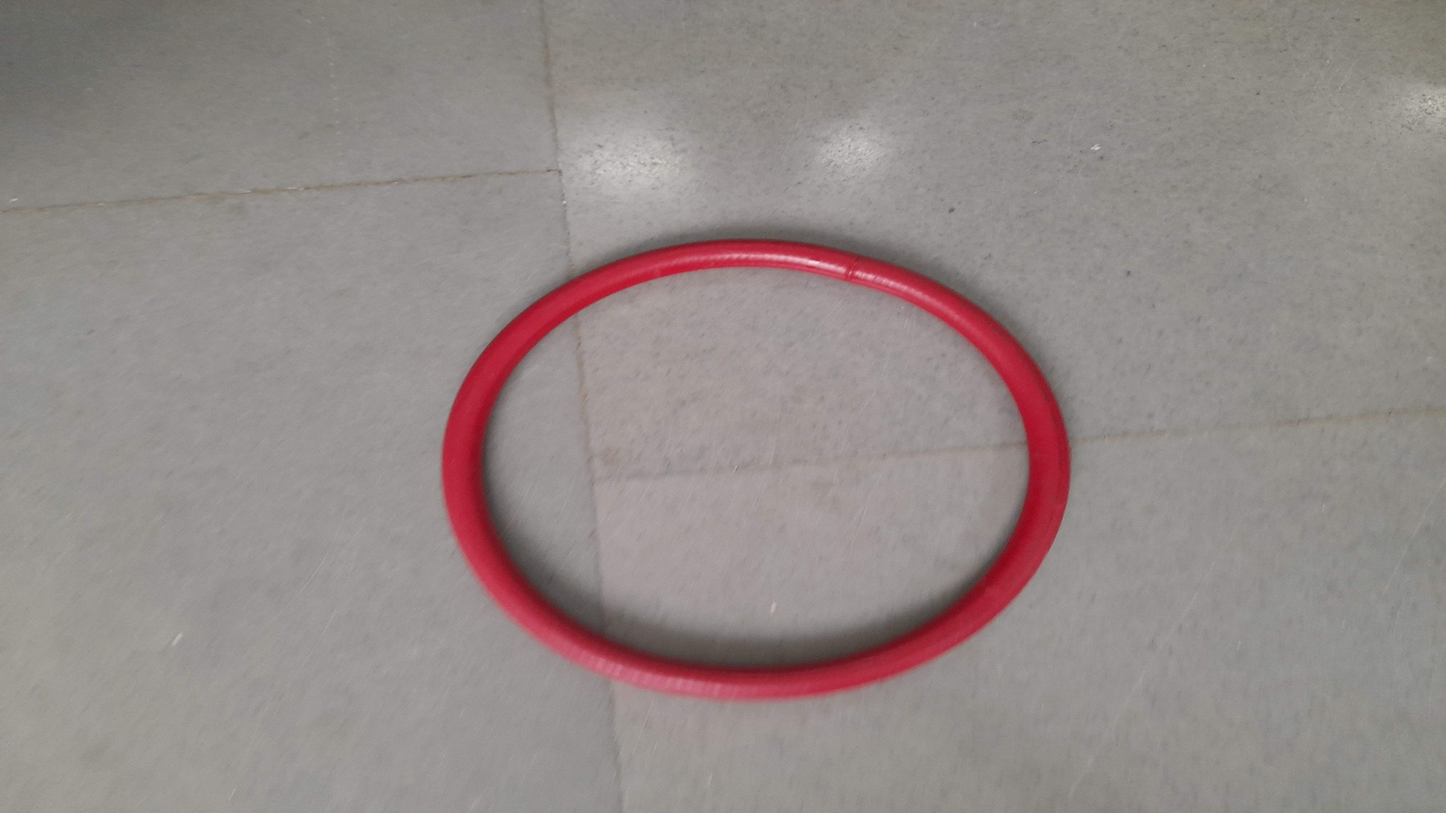Red ring: (445, 239, 1071, 698)
